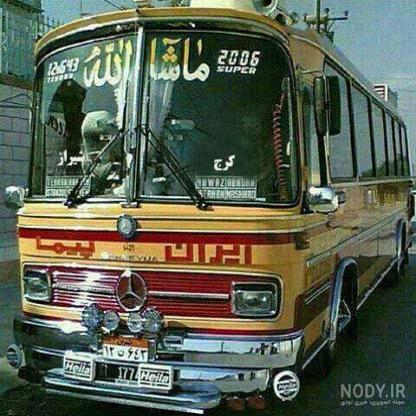Bus: (0, 0, 416, 404)
